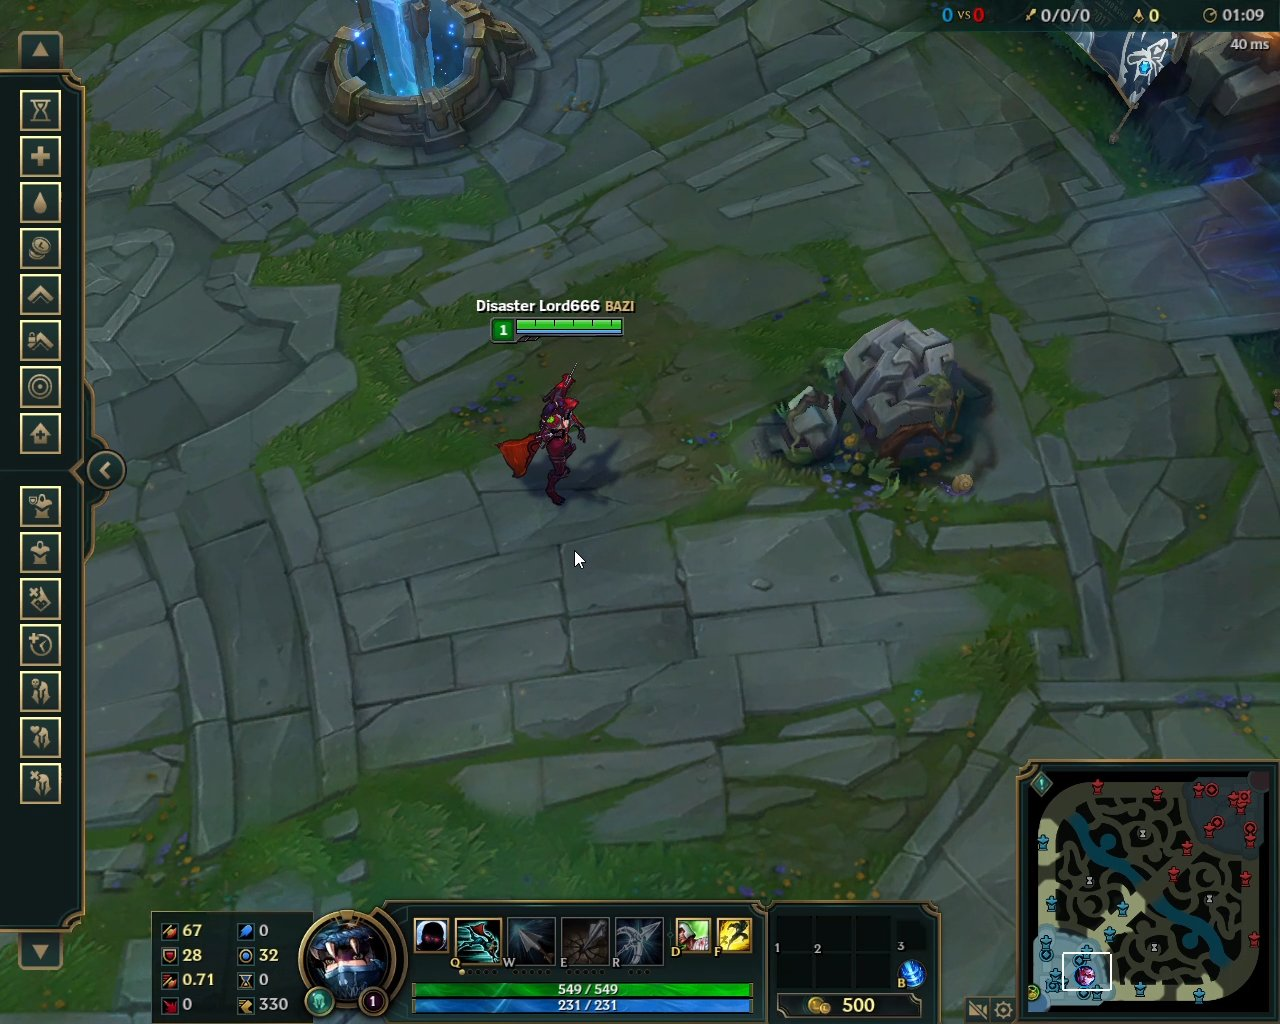Vayne: (490, 358, 596, 514)
